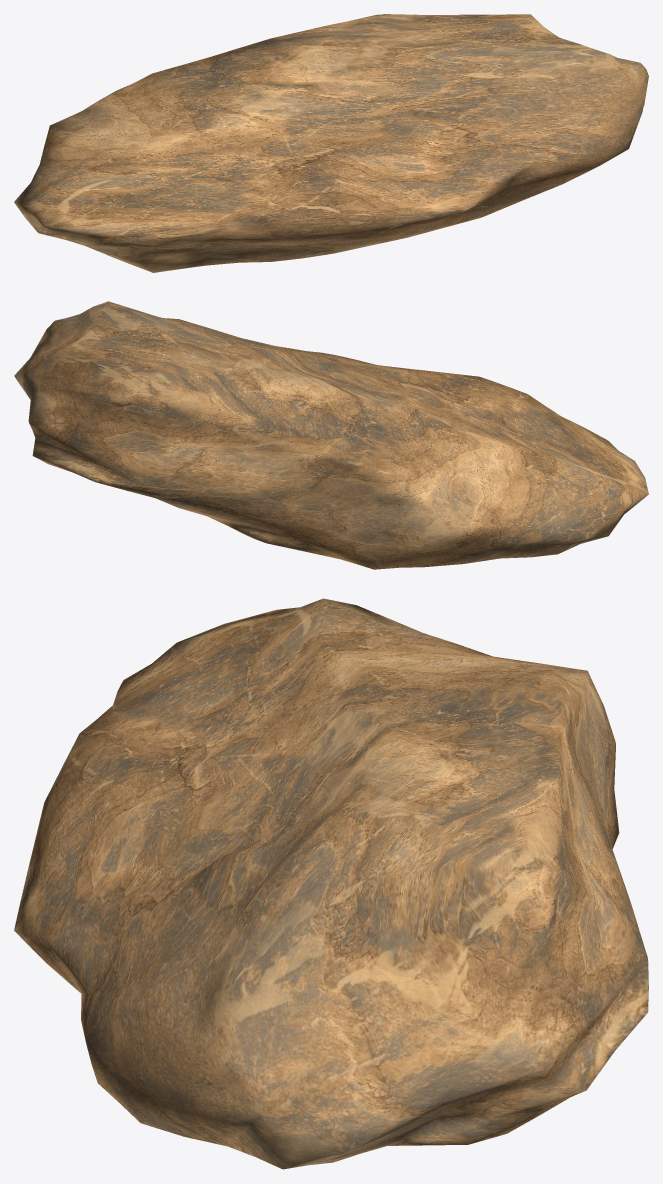
Rendered from desert_rock_b.glb.
3 views of the same model, one above another, from view 1: azimuth 30°, elevation 25°; view 2: azimuth 150°, elevation 25°; view 3: azimuth 270°, elevation 25° (orthographic). The views are drawn at different scales.
Visible parts, largest first — view 1: Cliff_Rock_Model; view 2: Cliff_Rock_Model; view 3: Cliff_Rock_Model.
Boxes of the visible parts, x1,y1,x2,y2 form: Cliff_Rock_Model: (14,14,648,272); Cliff_Rock_Model: (14,301,648,569); Cliff_Rock_Model: (14,598,648,1169).
Size of the model in its own units: 1.7 by 0.3599 by 0.8861.
Materials: 1 (1 with a texture image).
